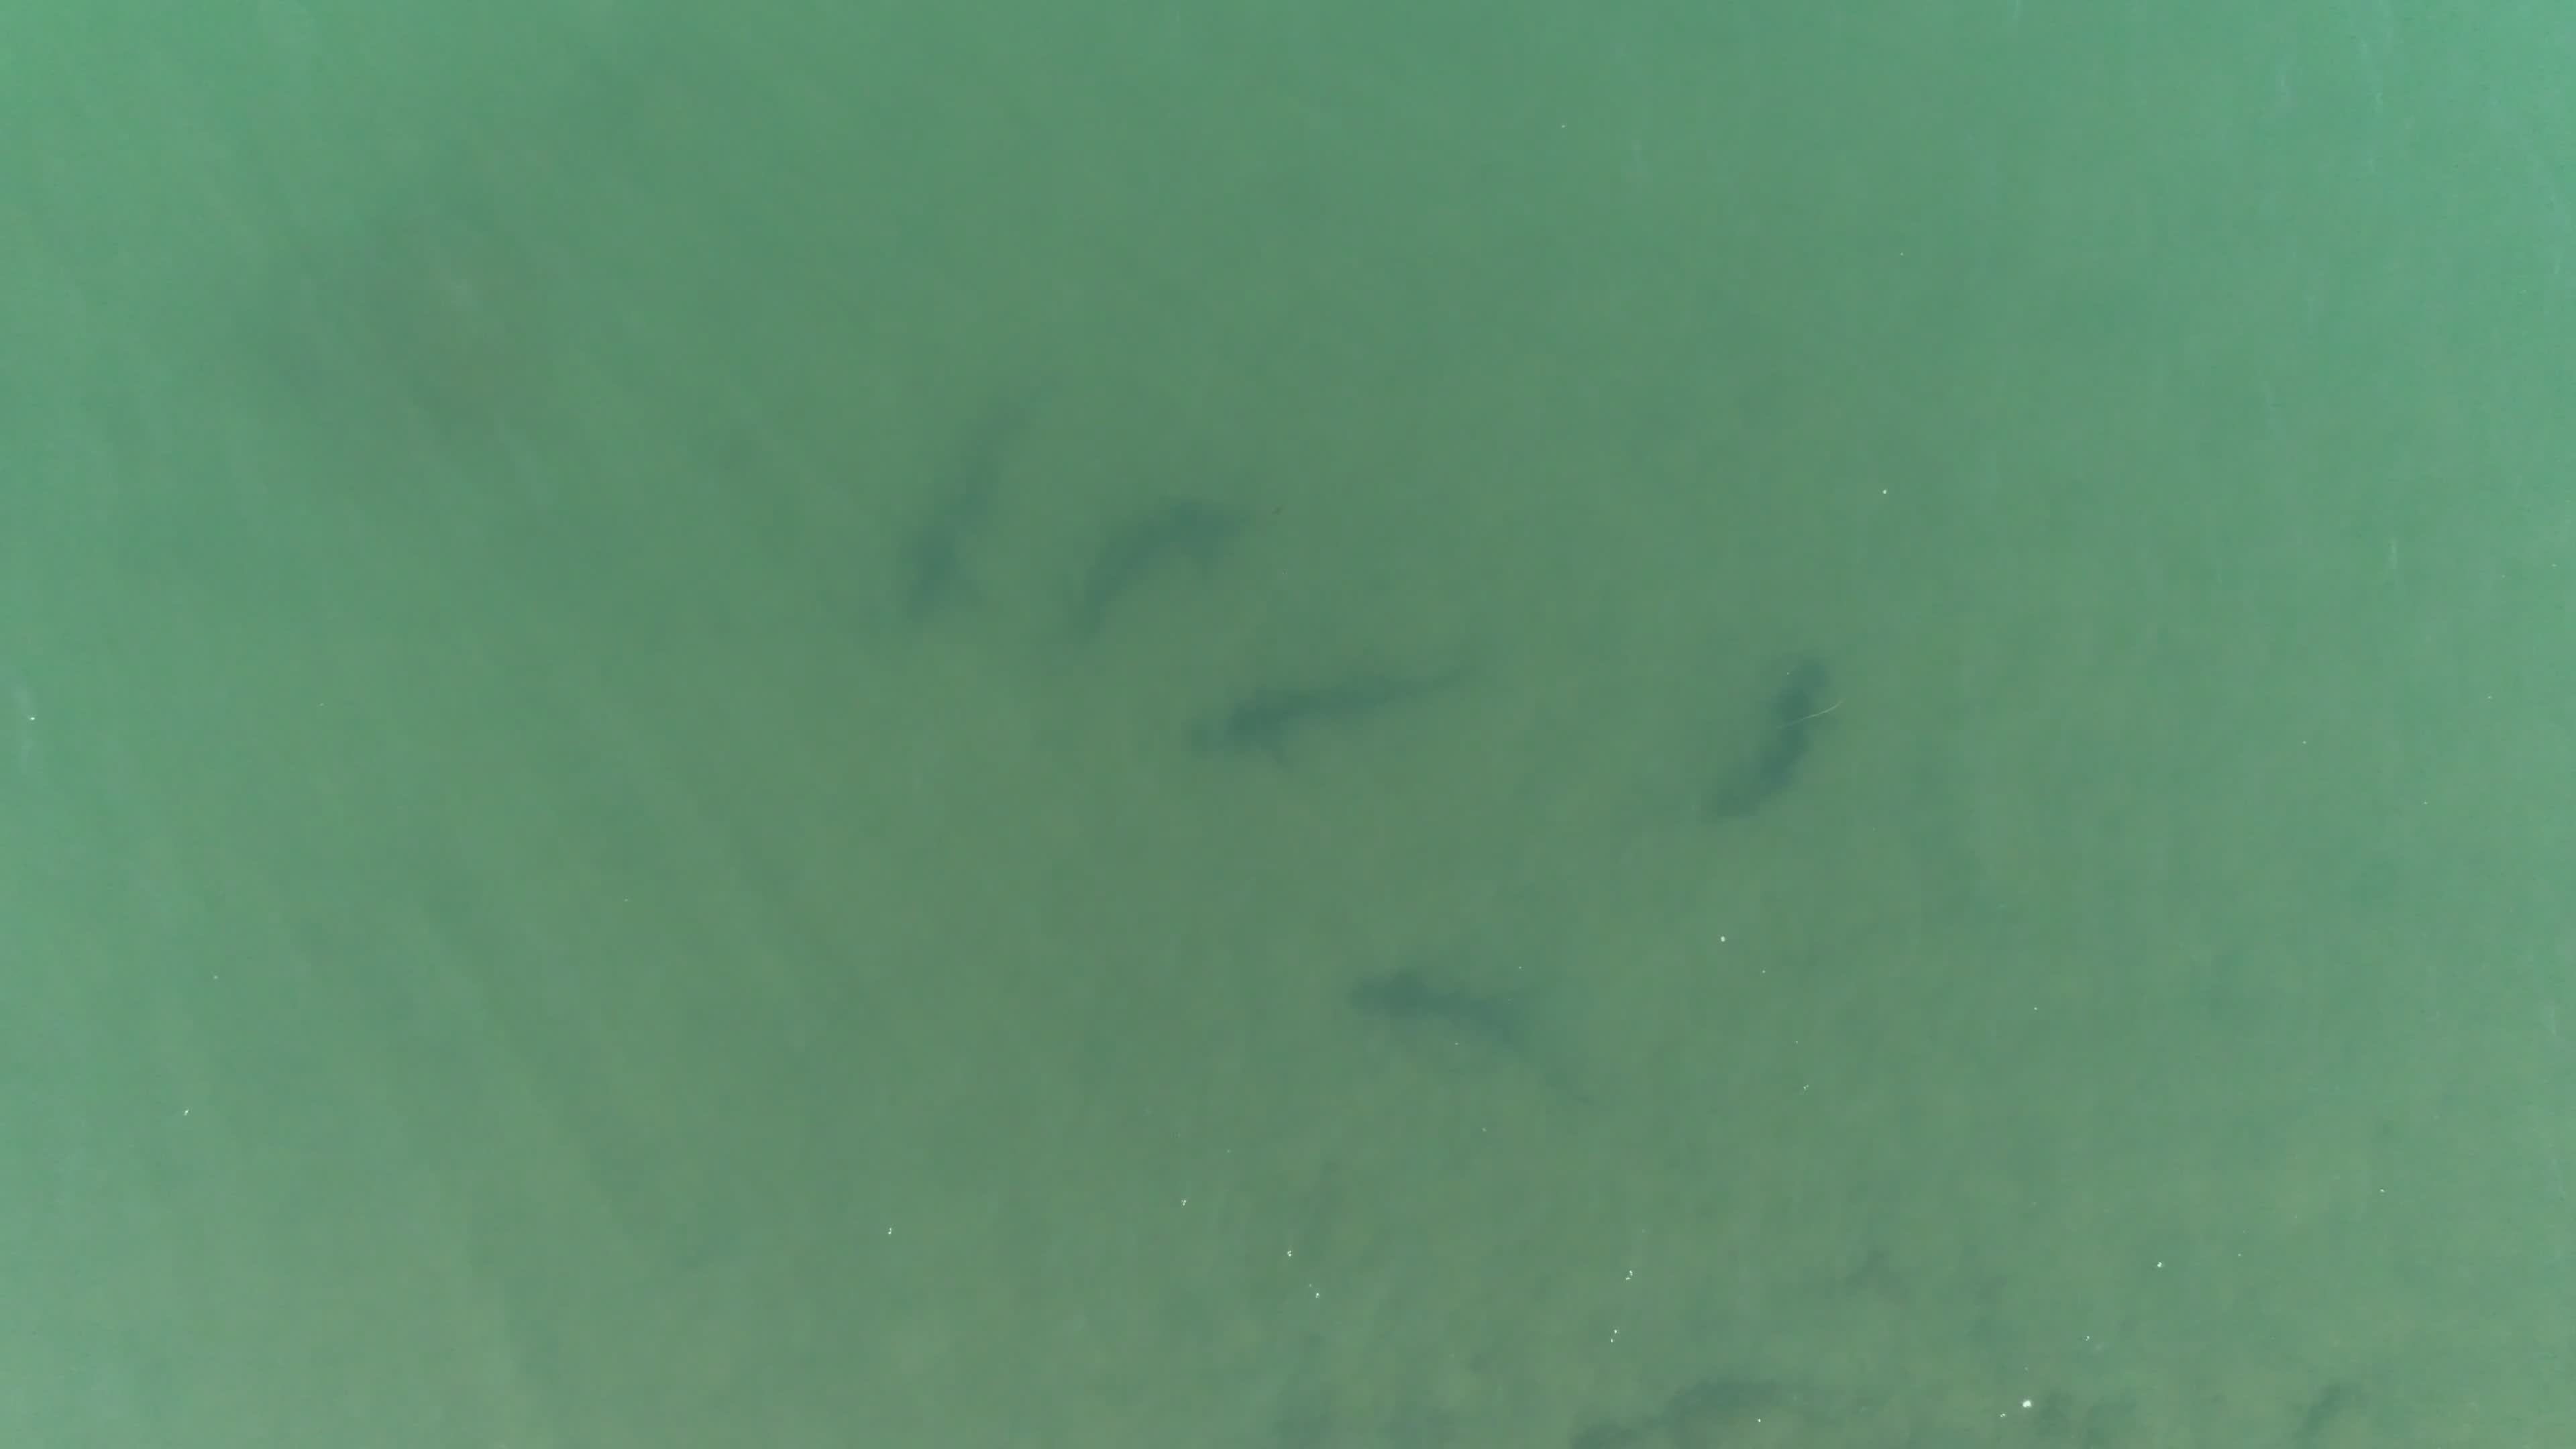shark: (1392, 883, 1454, 985)
